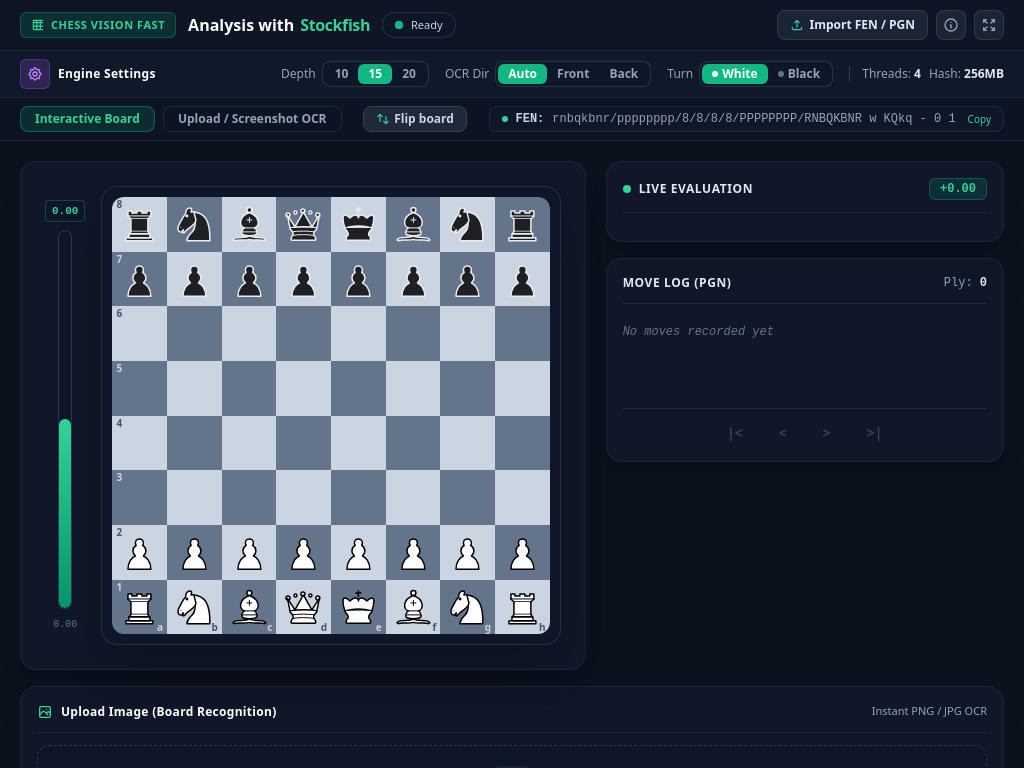
it: App › importing a PGN enables Previous move
Click the button "Import FEN / PGN" at (852, 25), box [776,10,928,40]
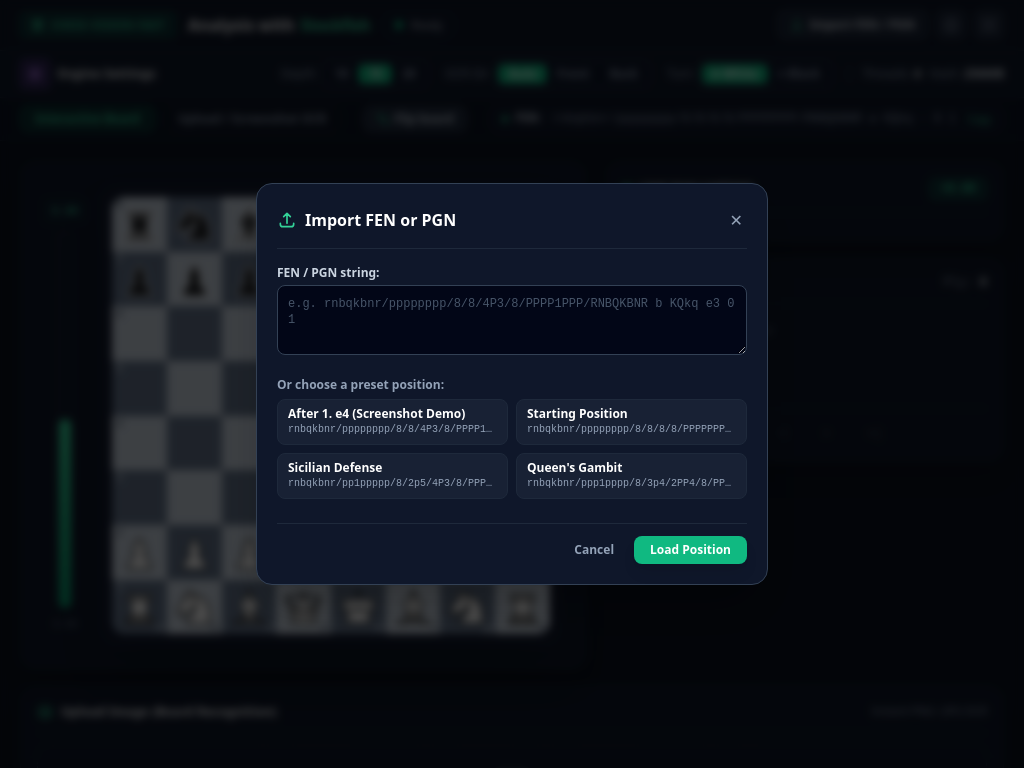
Replace the text in the text box labelled "FEN / PGN string:" with "1. e4 e5 2. Nf3 Nc6" at (512, 320), box [277,285,747,355]
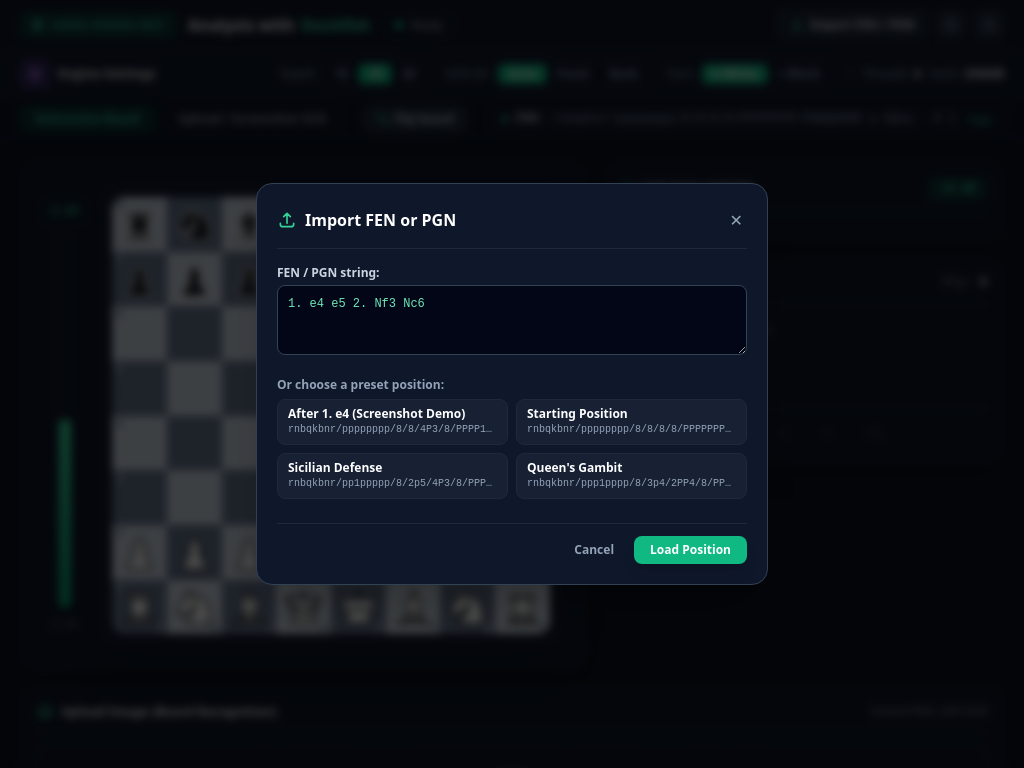
Click the button "Load Position" at (690, 550), box [634,536,747,564]
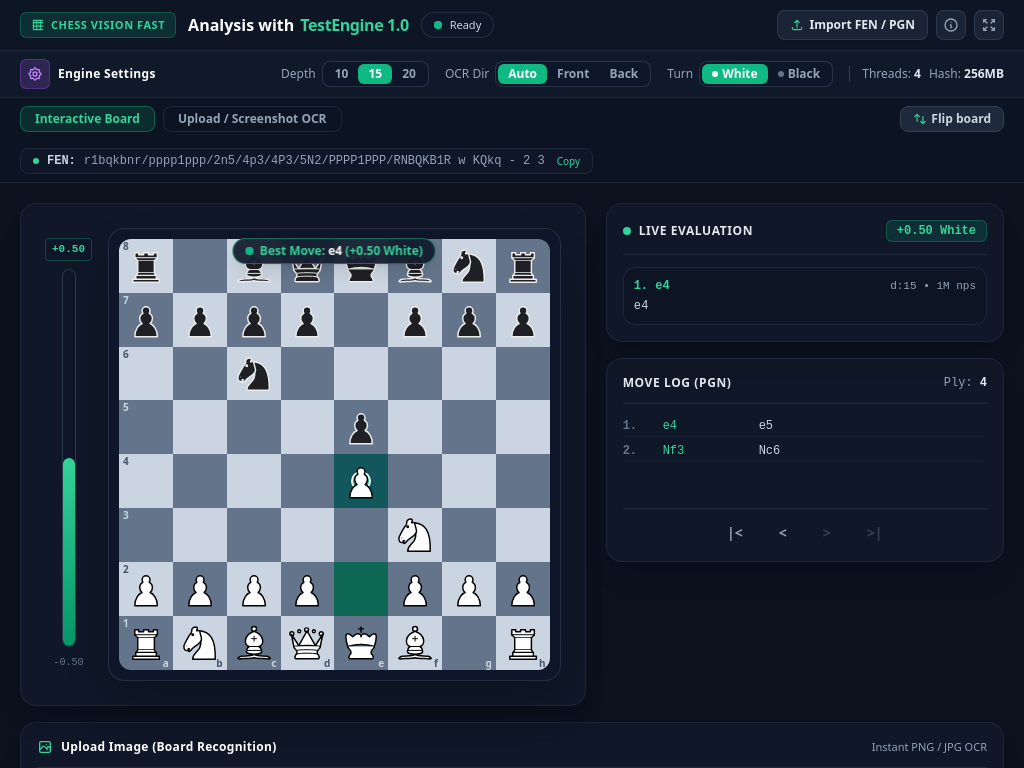
Result: the text "e4" next to "e5" is shown at [663,419,677,433]
Result: the text "Nc6" is shown at [759,444,780,458]
Result: the button titled "Previous move" is enabled at [773,521,793,545]
